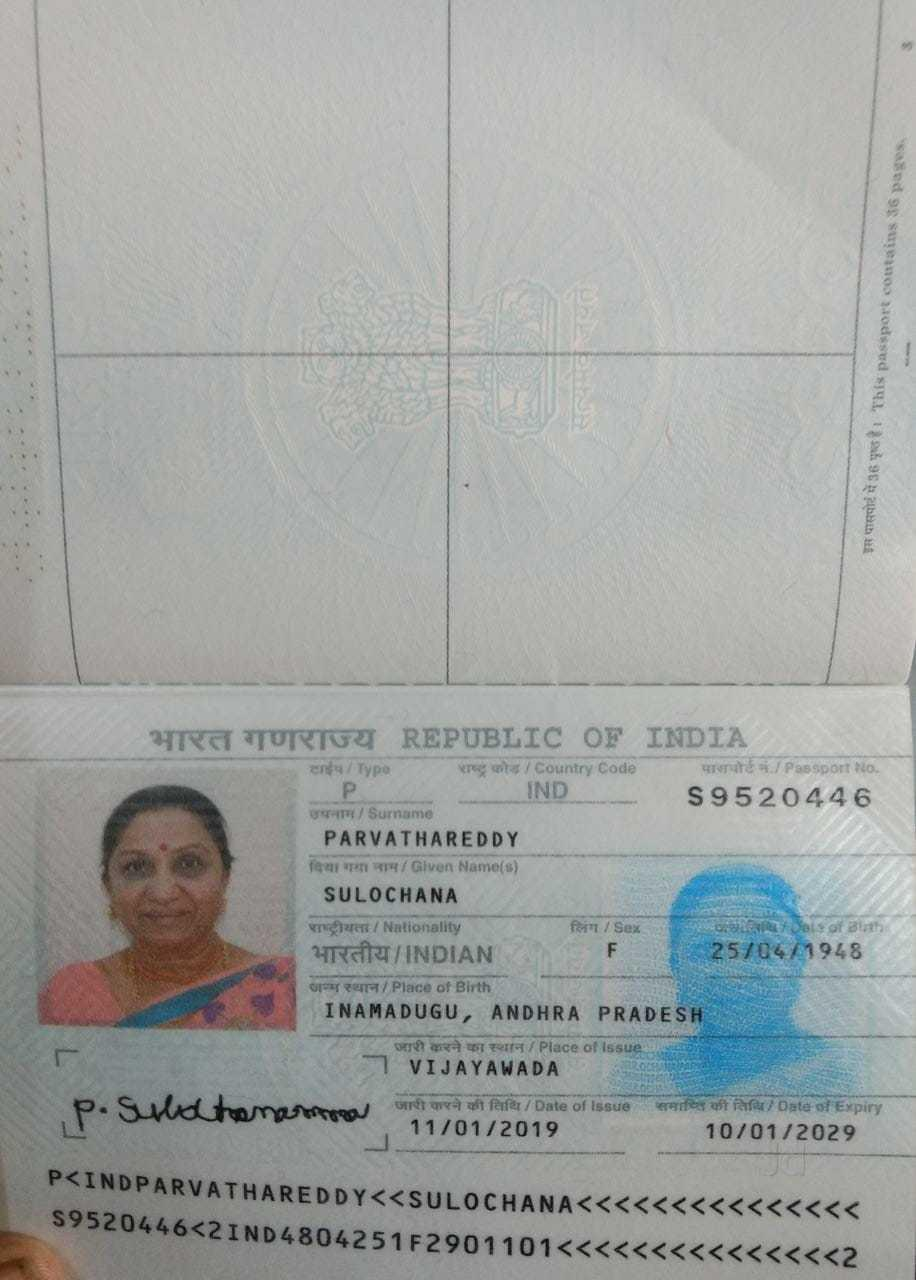DOB: (698, 932, 886, 975)
Surname: (318, 819, 528, 854)
country_code: (510, 765, 594, 806)
date_of_expiry: (695, 1105, 877, 1152)
date_of_issue: (405, 1100, 585, 1147)
details: (30, 1157, 898, 1276)
name: (318, 879, 480, 912)
nationality: (310, 930, 505, 973)
passport_no: (677, 781, 889, 814)
photo: (31, 763, 297, 1032)
place_of_birth: (320, 998, 730, 1032)
sex: (595, 930, 645, 968)
sign: (55, 1070, 383, 1152)
type: (318, 770, 389, 807)
